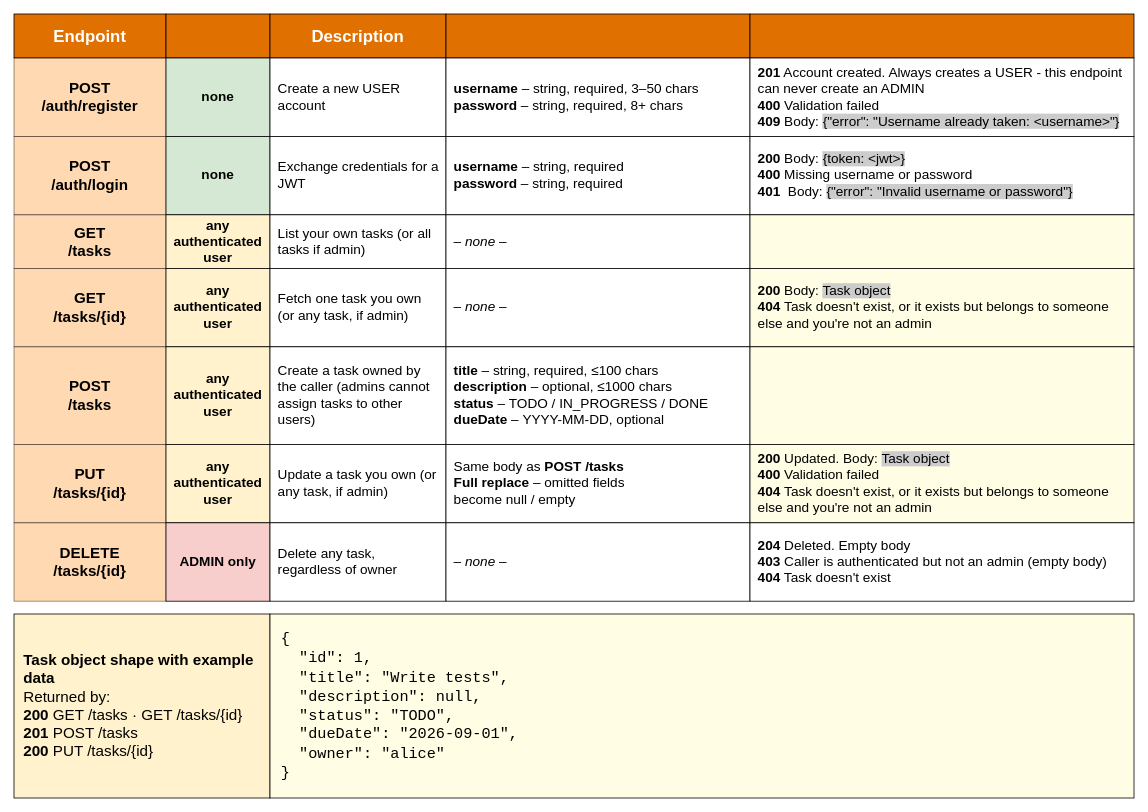
Some shapes in this 1148 by 812 pixel diagram are drawn without their labels. Here are the shapes that lost their labels. From the top down, the centre of each, then its label:
At (217,35): "Auth".
At (597,35): "Request Body".
At (941,35): "Responses".
At (941,241): "200 Always. Body: array of Task objects".
At (941,395): "201 Created. Body: Task object 400 Validation failed".
